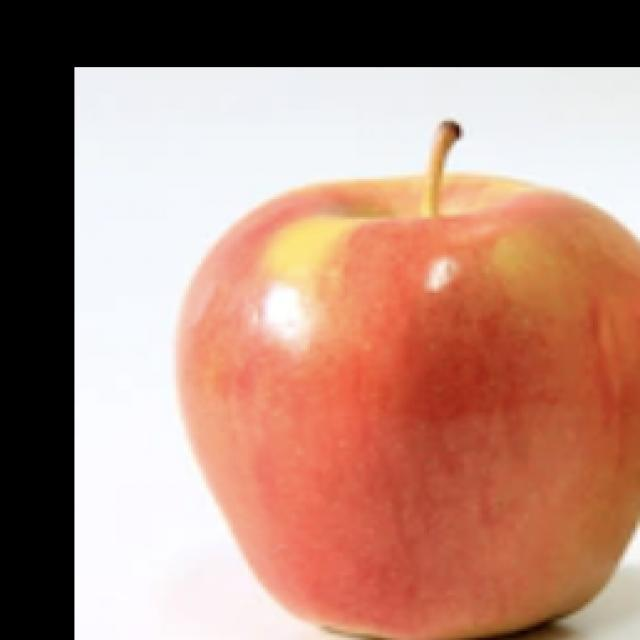Fresh Apple: (183, 185, 640, 640)
